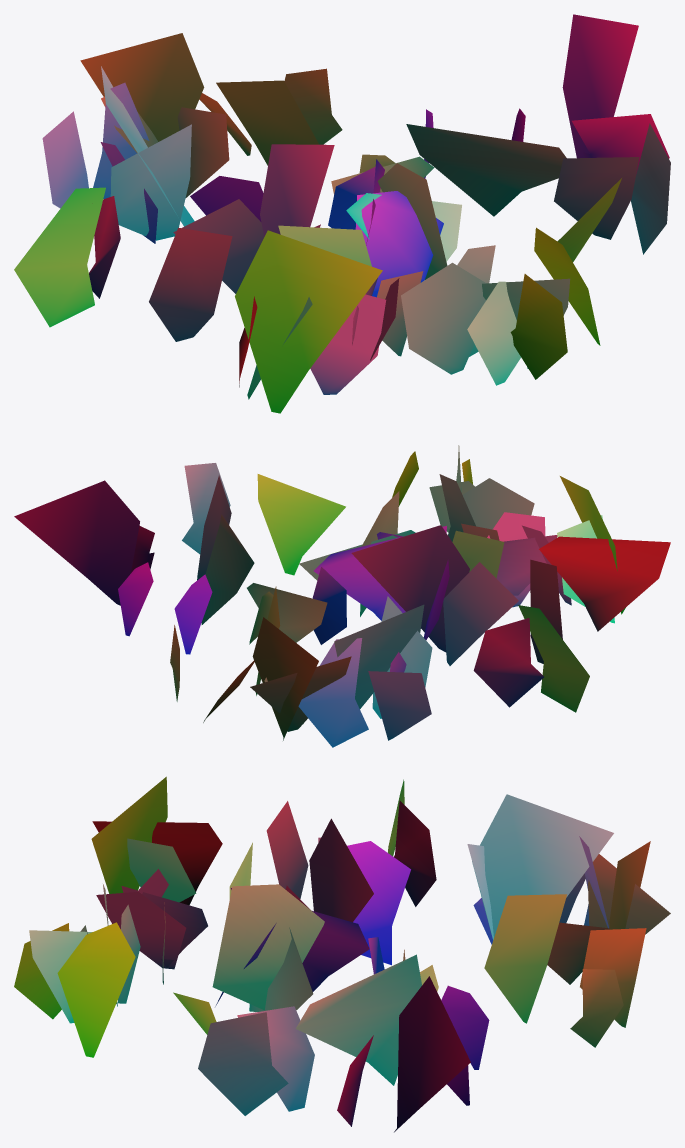
Rendered from Grass_Clumps_rbojr_High_rbojr_VarB_LOD1.fbx.
3 renders of one model, top to bottom at view 1: azimuth 30°, elevation 25°; view 2: azimuth 150°, elevation 25°; view 3: azimuth 270°, elevation 25°, orthographic. The views are drawn at different scales.
Parts seen in each view (by area): view 1: _2242_VarB_LOD1; view 2: _2242_VarB_LOD1; view 3: _2242_VarB_LOD1.
Part boxes in pixels (x1,y1,x2,y2): _2242_VarB_LOD1: (14,14,670,413); _2242_VarB_LOD1: (14,445,670,747); _2242_VarB_LOD1: (14,776,670,1132).
Bounding box in the file's own units: 86.29 × 21.21 × 78.81.
